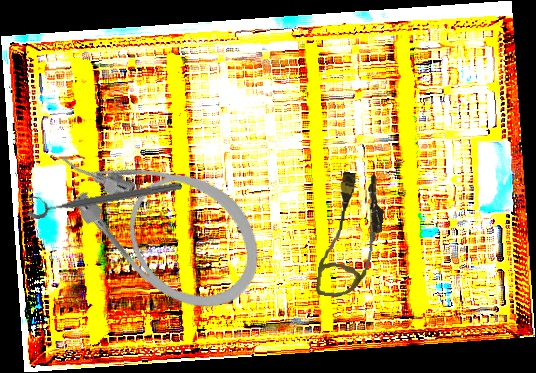Cannula: (36, 98, 285, 335), (315, 170, 388, 301)
Fixation Ring: (25, 169, 183, 221)
